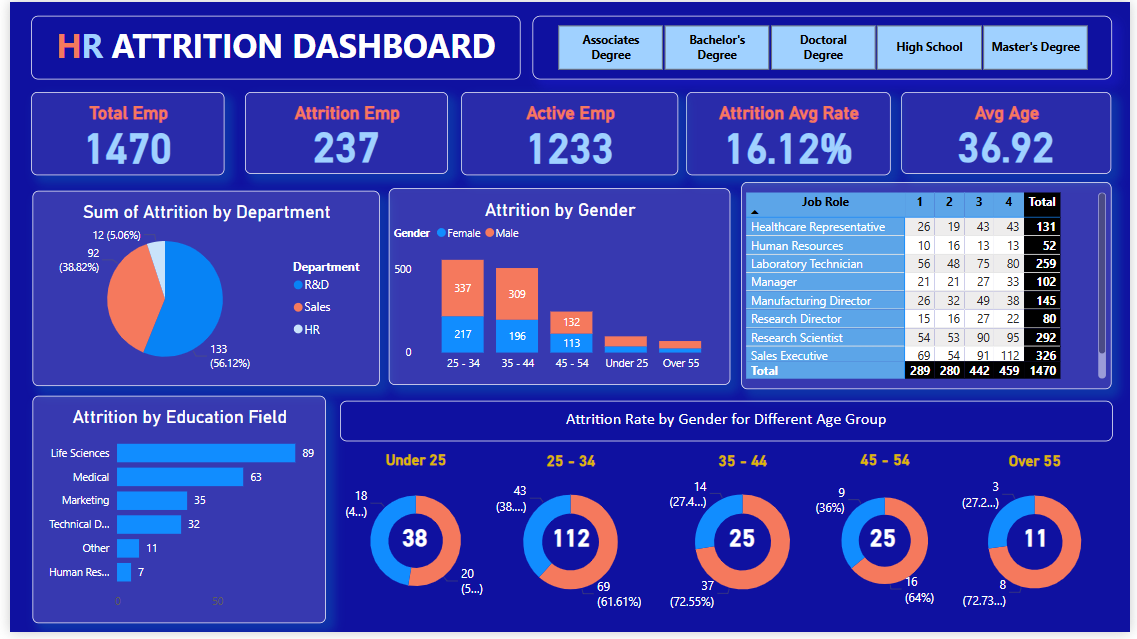

The dashboard page shown, as its layout file describes it:
{"tool":"powerbi","page":{"name":"Page 1","canvas":[1280,720],"ordinal":0},"visuals":[{"type":"card","title":"Total Emp","fields":{"Values":["Sum(HR data.Employee Count)"]},"box":[24.2,103.2,220.9,95.1],"z":0},{"type":"card","title":"Avg Age","fields":{"Values":["Avg(HR data.Age)"]},"box":[1018.3,103.3,240,93.3],"z":1000},{"type":"card","title":"Attrition Avg Rate","fields":{"Values":["Avg(HR data.Attrition Count)"]},"box":[773.3,103.3,233.3,95],"z":2000},{"type":"card","title":"Active Emp","fields":{"Values":["Sum(HR data.CF_current Employee)"]},"box":[515.9,103.2,248.3,95.1],"z":3000},{"type":"slicer","fields":{"Values":["HR data.Education"]},"box":[596.5,16.1,662.6,72.5],"z":4000},{"type":"pieChart","title":"Sum of Attrition by Department","fields":{"Y":["Sum(HR data.Attrition Count)"],"Category":["HR data.Department"]},"box":[25,215,396.7,223.3],"z":5000},{"type":"columnChart","title":"Attrition by Gender","fields":{"Category":["HR data.CF_age band"],"Y":["CountNonNull(HR data.Attrition)"],"Series":["HR data.Gender"]},"box":[433.3,213.3,390,225],"z":6000},{"type":"clusteredBarChart","title":"Attrition by Education Field","fields":{"Y":["Sum(HR data.Attrition Count)"],"Category":["HR data.Education Field"]},"box":[25,450,335,260],"z":7000},{"type":"donutChart","title":"Under 25","fields":{"Y":["Sum(HR data.Attrition Count)"],"Category":["HR data.Gender"],"Series":["HR data.CF_age band"]},"box":[376.7,501.7,173.3,208.3],"z":8000},{"type":"donutChart","title":"45 - 54","fields":{"Y":["Sum(HR data.Attrition Count)"],"Category":["HR data.Gender"],"Series":["HR data.CF_age band"]},"box":[915,501.7,168.3,208.3],"z":9000},{"type":"donutChart","title":" 35 - 44","fields":{"Y":["Sum(HR data.Attrition Count)"],"Category":["HR data.Gender"],"Series":["HR data.CF_age band"]},"box":[745,503.3,183.3,208.3],"z":10000},{"type":"donutChart","title":"25 - 34","fields":{"Y":["Sum(HR data.Attrition Count)"],"Category":["HR data.Gender"],"Series":["HR data.CF_age band"]},"box":[550,503.3,181.7,208.3],"z":11000},{"type":"donutChart","title":"Over 55","fields":{"Y":["Sum(HR data.Attrition Count)"],"Category":["HR data.Gender"],"Series":["HR data.CF_age band"]},"box":[1083.3,503.3,176.7,208.3],"z":12000},{"type":"pivotTable","fields":{"Rows":["HR data.Job Role"],"Columns":["HR data.Job Satisfaction"],"Values":["Sum(HR data.Employee Count)"]},"box":[835,205,423.3,236.7],"z":13000},{"type":"textbox","box":[376.7,455,883.3,46.7],"z":14000},{"type":"textbox","box":[24.2,16.1,559.4,72.5],"z":15000},{"type":"card","title":"Attrition Emp","fields":{"Values":["Sum(HR data.Attrition Count)"]},"box":[268.3,103.3,231.7,93.3],"z":16000},{"type":"card","fields":{"Values":["Sum(HR data.Attrition Count)"]},"box":[433,593,60,36],"z":17000},{"type":"card","fields":{"Values":["Sum(HR data.Attrition Count)"]},"box":[605,593,71,37],"z":18000},{"type":"card","fields":{"Values":["Sum(HR data.Attrition Count)"]},"box":[801,593,71,37],"z":19000},{"type":"card","fields":{"Values":["Sum(HR data.Attrition Count)"]},"box":[1136,593,73,37],"z":20000},{"type":"card","fields":{"Values":["Sum(HR data.Attrition Count)"]},"box":[962,593,73,37],"z":21000}]}

Visuals, with their boxes in screenshot pixels (x1, y1, x2, y2), scaled from the page's 1280x720 canvas onto the 1137x639 screenshot:
"Total Emp" card: <bbox>21, 92, 218, 176</bbox>
"Avg Age" card: <bbox>905, 92, 1118, 174</bbox>
"Attrition Avg Rate" card: <bbox>687, 92, 894, 176</bbox>
"Active Emp" card: <bbox>458, 92, 679, 176</bbox>
slicer - HR data.Education: <bbox>530, 14, 1118, 79</bbox>
"Sum of Attrition by Department" pieChart: <bbox>22, 191, 375, 389</bbox>
"Attrition by Gender" columnChart: <bbox>385, 189, 731, 389</bbox>
"Attrition by Education Field" clusteredBarChart: <bbox>22, 399, 320, 630</bbox>
"Under 25" donutChart: <bbox>335, 445, 489, 630</bbox>
"45 - 54" donutChart: <bbox>813, 445, 962, 630</bbox>
" 35 - 44" donutChart: <bbox>662, 447, 825, 632</bbox>
"25 - 34" donutChart: <bbox>489, 447, 650, 632</bbox>
"Over 55" donutChart: <bbox>962, 447, 1119, 632</bbox>
pivotTable - HR data.Job Role x HR data.Job Satisfaction: <bbox>742, 182, 1118, 392</bbox>
textbox: <bbox>335, 404, 1119, 445</bbox>
textbox: <bbox>21, 14, 518, 79</bbox>
"Attrition Emp" card: <bbox>238, 92, 444, 174</bbox>
card - Sum(HR data.Attrition Count): <bbox>385, 526, 438, 558</bbox>
card - Sum(HR data.Attrition Count): <bbox>537, 526, 600, 559</bbox>
card - Sum(HR data.Attrition Count): <bbox>712, 526, 775, 559</bbox>
card - Sum(HR data.Attrition Count): <bbox>1009, 526, 1074, 559</bbox>
card - Sum(HR data.Attrition Count): <bbox>855, 526, 919, 559</bbox>
